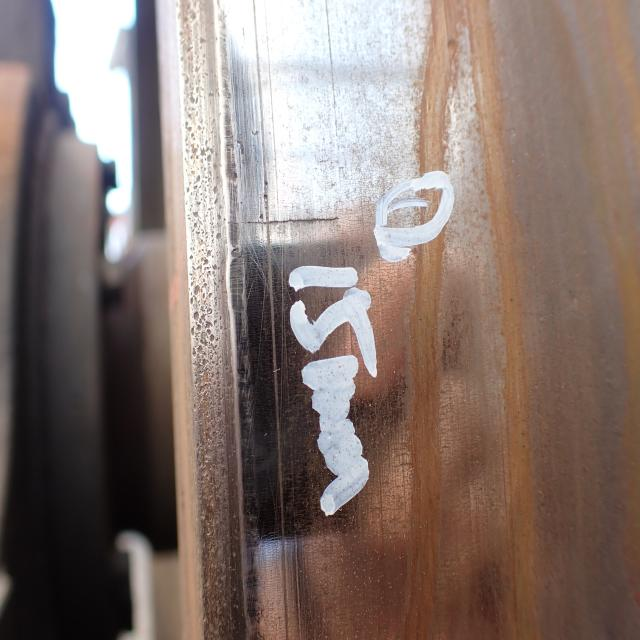Brake_Thermal_Cracks: (218, 216, 342, 228)
